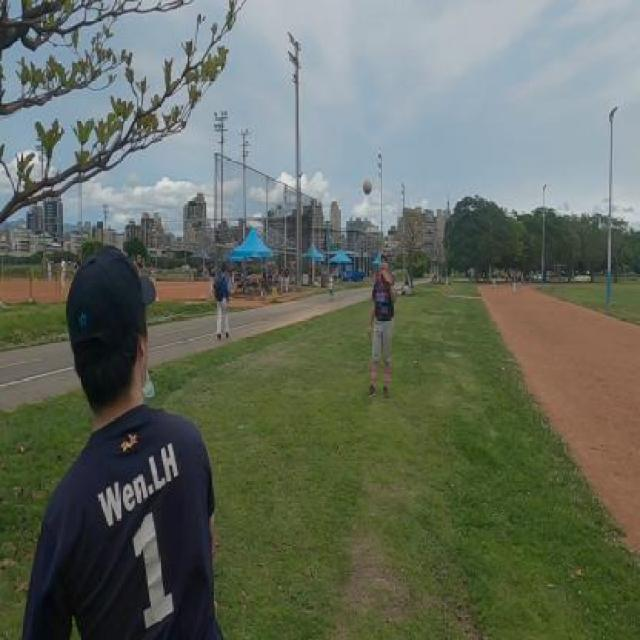baseball: (363, 178, 372, 196)
